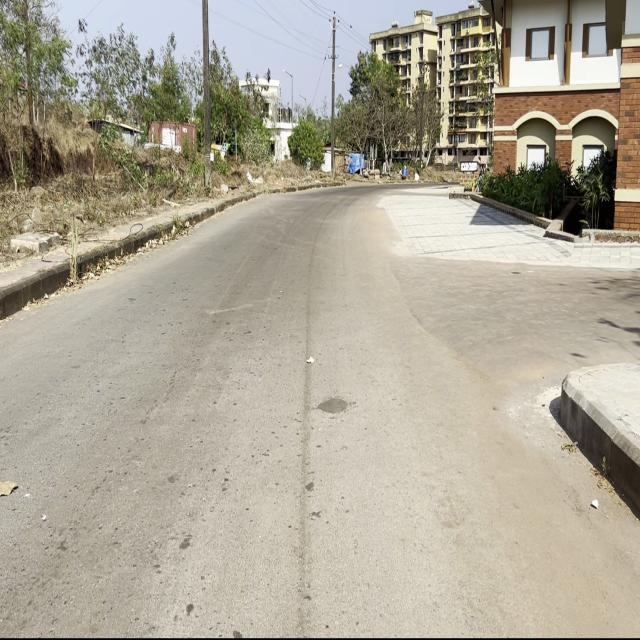Road: (1, 187, 639, 636)
